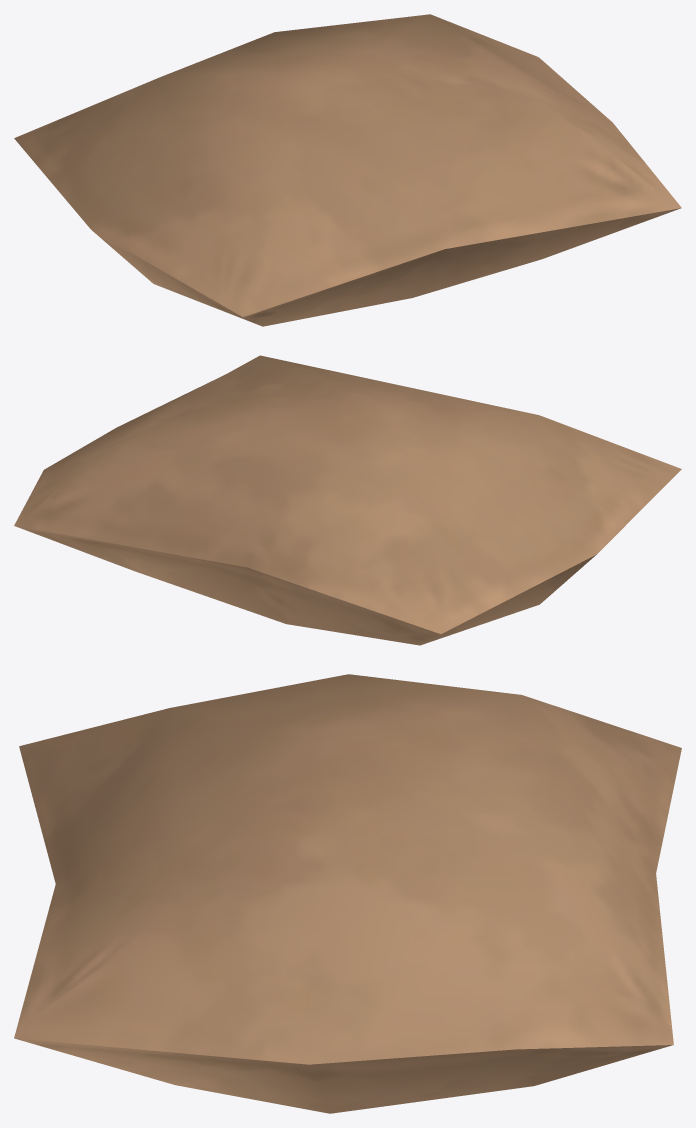
File: Prfb_Bags.fbx
The picture shows the model from 3 angles, top to bottom: view 1: azimuth 30°, elevation 25°; view 2: azimuth 150°, elevation 25°; view 3: azimuth 270°, elevation 25°; orthographic projection. The views are drawn at different scales.
Visible parts, largest first — view 1: Mat_Bags_01_1; view 2: Mat_Bags_01_1; view 3: Mat_Bags_01_1.
Boxes of the visible parts, x1,y1,x2,y2 form: Mat_Bags_01_1: (14,14,681,326); Mat_Bags_01_1: (14,355,681,645); Mat_Bags_01_1: (14,674,681,1113).
Size of the model in its own units: 1.12 by 0.4584 by 0.9184.
Materials: 1 (1 with a texture image).
